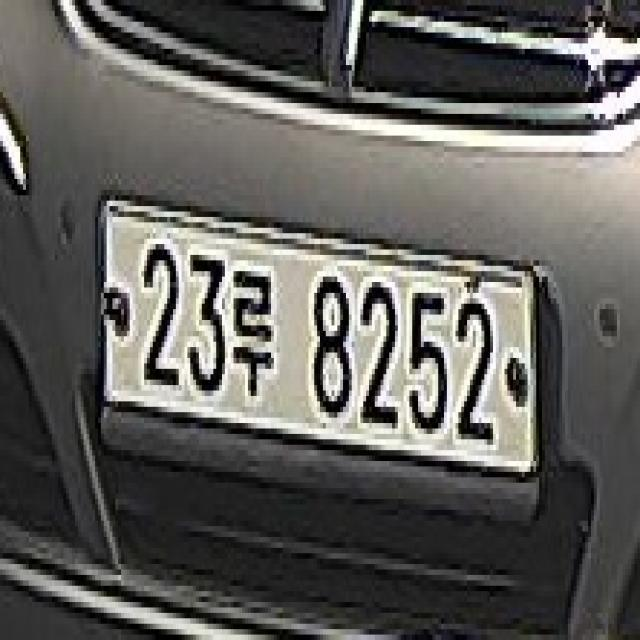2: (457, 287, 504, 451), (358, 272, 405, 434), (136, 232, 182, 395)
3: (186, 233, 232, 403)
5: (403, 280, 451, 441)
8: (309, 270, 353, 422)
license_plate: (101, 199, 537, 476)
lu: (234, 251, 284, 409)
